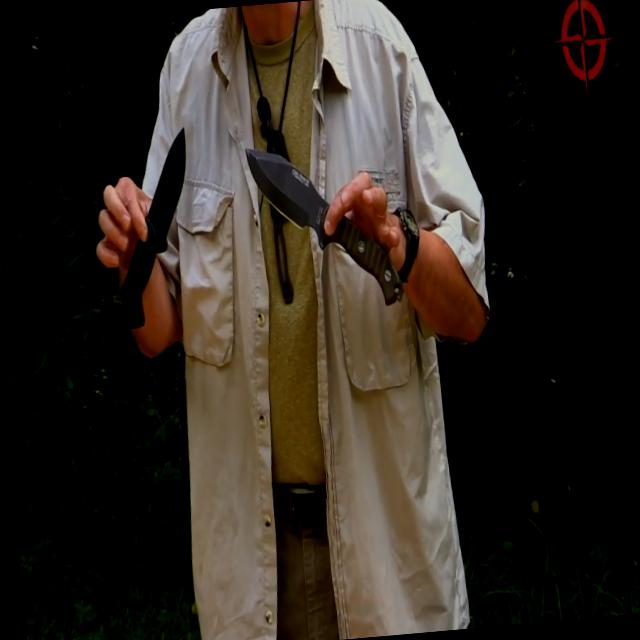knife: (240, 125, 408, 318), (105, 118, 203, 332)
